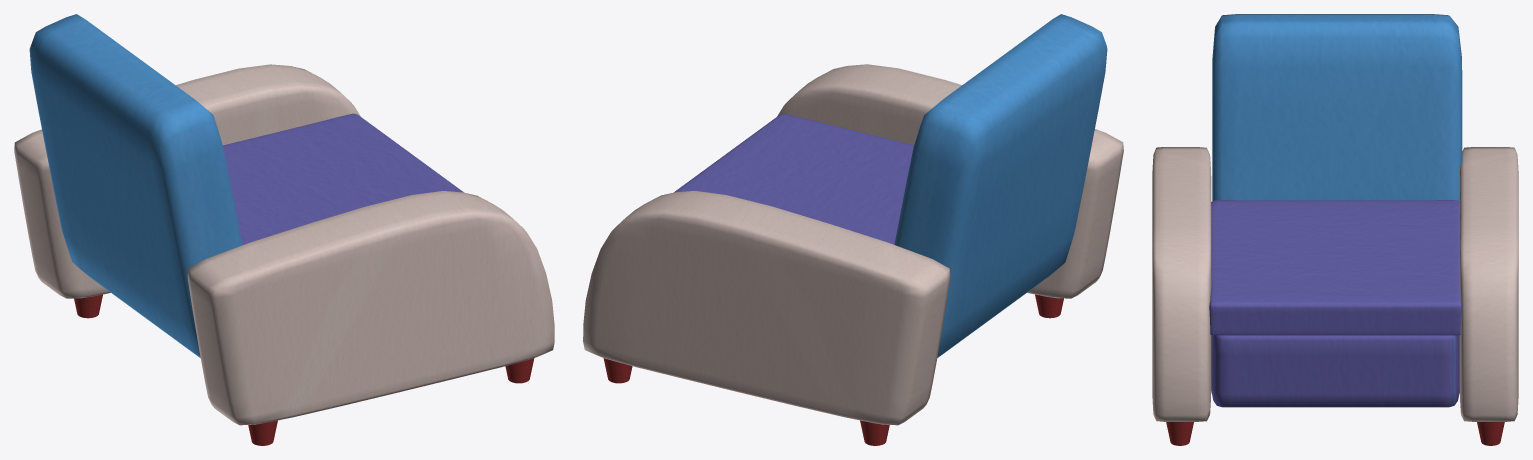
Rendered from chair_MES.fbx.
3 renders of one model, left to right at view 1: azimuth 30°, elevation 25°; view 2: azimuth 150°, elevation 25°; view 3: azimuth 270°, elevation 25°, orthographic. The views are drawn at different scales.
Parts seen in each view (by area): view 1: Chair_Arm.001, Box001, Chair_Cushion, Chair_Arm, Chair_Legs; view 2: Chair_Arm, Box001, Chair_Cushion, Chair_Arm.001, Chair_Legs; view 3: Chair_Cushion, Box001, Chair_Arm.001, Chair_Arm, Chair_Legs.
Boxes of the visible parts, bbox=[...] form: Chair_Arm.001: bbox=[187, 191, 554, 425]; Box001: bbox=[29, 14, 242, 357]; Chair_Cushion: bbox=[223, 113, 463, 245]; Chair_Arm: bbox=[14, 64, 360, 298]; Chair_Legs: bbox=[74, 294, 534, 445]; Chair_Arm: bbox=[583, 190, 950, 425]; Box001: bbox=[894, 14, 1107, 357]; Chair_Cushion: bbox=[674, 113, 913, 244]; Chair_Arm.001: bbox=[777, 64, 1123, 298]; Chair_Legs: bbox=[603, 294, 1063, 445]; Chair_Cushion: bbox=[1209, 200, 1461, 407]; Box001: bbox=[1212, 14, 1462, 201]; Chair_Arm.001: bbox=[1152, 147, 1211, 421]; Chair_Arm: bbox=[1459, 147, 1518, 421]; Chair_Legs: bbox=[1166, 422, 1504, 445].
Bounding box in the file's own units: 124 × 107 × 122.
